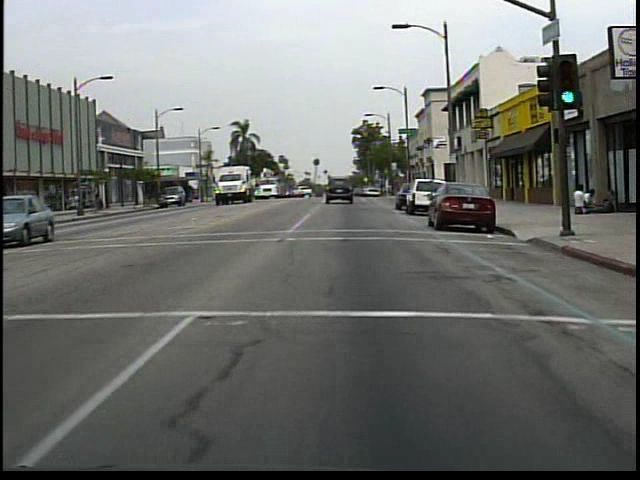person: (568, 183, 587, 216), (95, 191, 105, 212)
